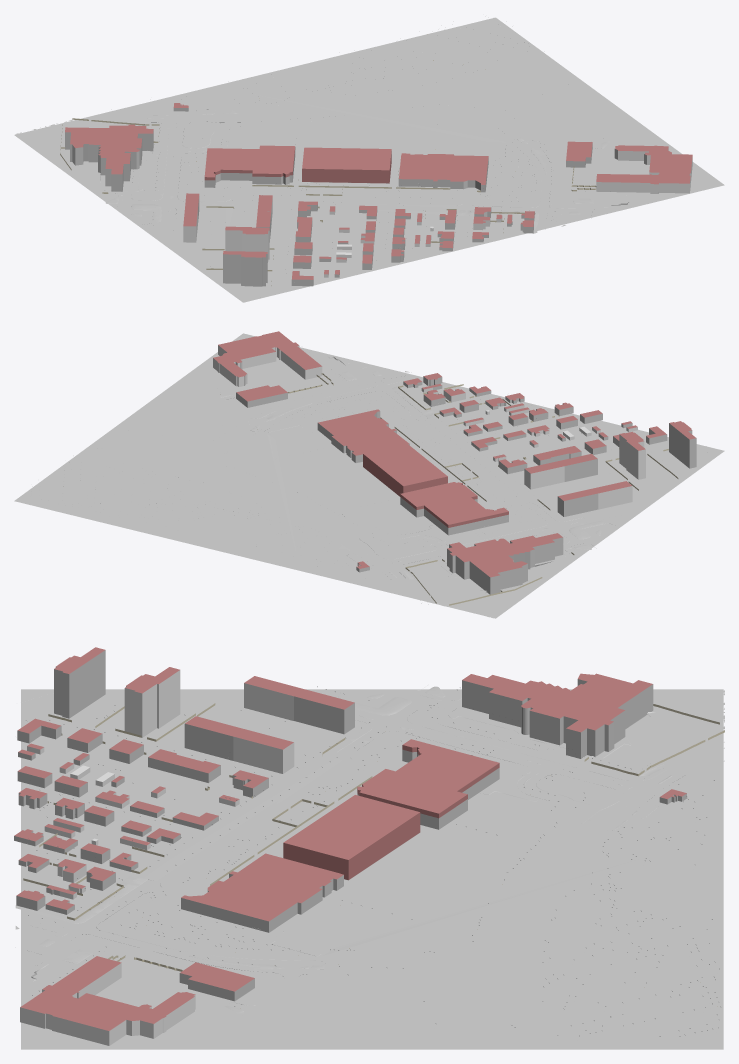
Rendered from raksila2-joined.dae.
The picture shows the model from 3 angles, top to bottom: view 1: azimuth 30°, elevation 25°; view 2: azimuth 150°, elevation 25°; view 3: azimuth 270°, elevation 25°; orthographic projection. The views are drawn at different scales.
Visible parts, largest first — view 1: image_0; view 2: image_0; view 3: image_0.
Boxes of the visible parts, box(x1,y1,x2,y2) form: image_0: box(14, 17, 724, 302); image_0: box(14, 331, 724, 618); image_0: box(14, 647, 724, 1049).
Bounding box in the file's own units: 13.42 × 11.06 × 1.07.
